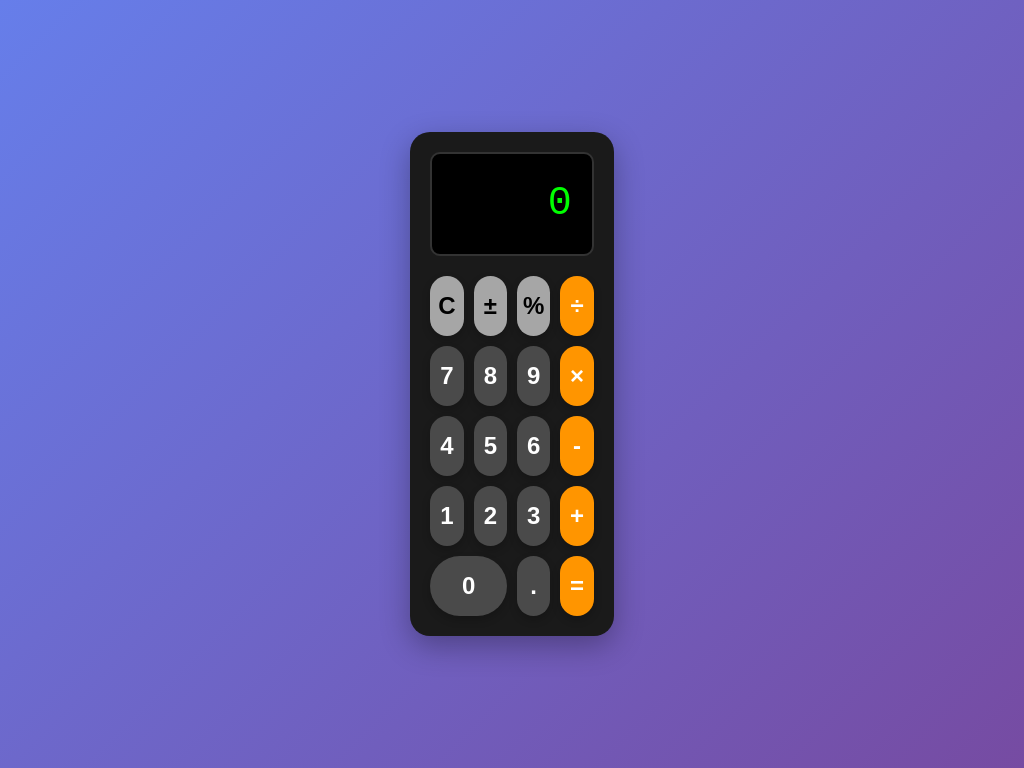
Test: Calculator › clears display when C button is clicked
// Enter some numbers
Step 1. Click the button "1" → point(447, 516), box [430, 486, 464, 546]
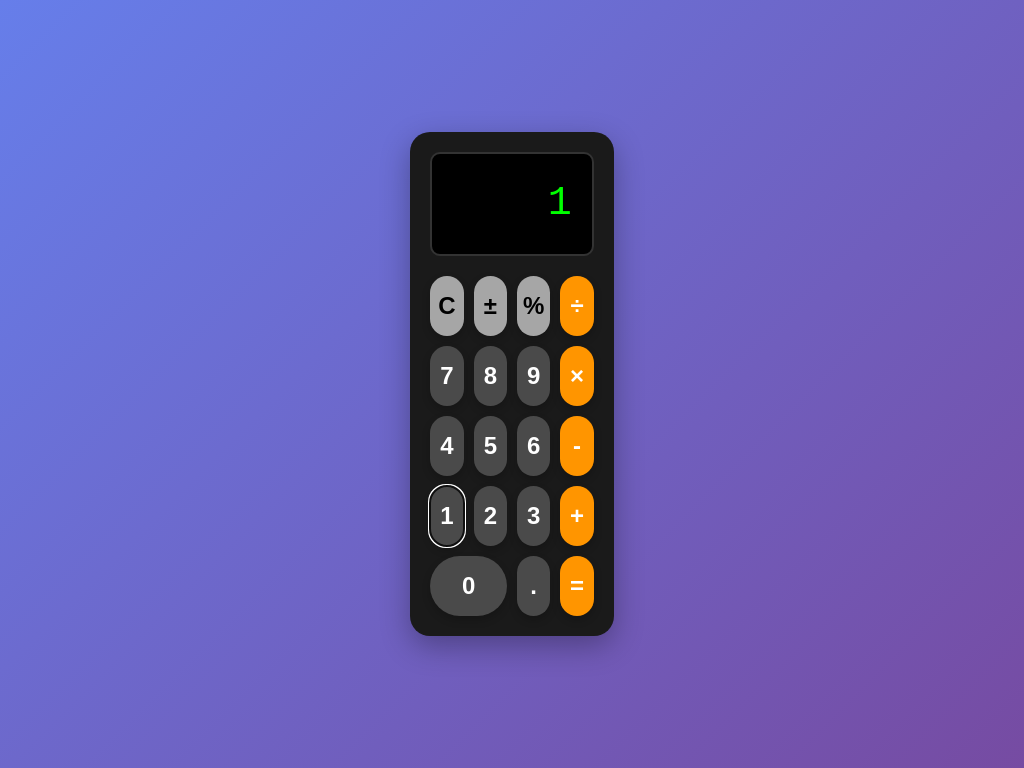
Step 2. Click the button "2" → point(490, 516), box [474, 486, 507, 546]
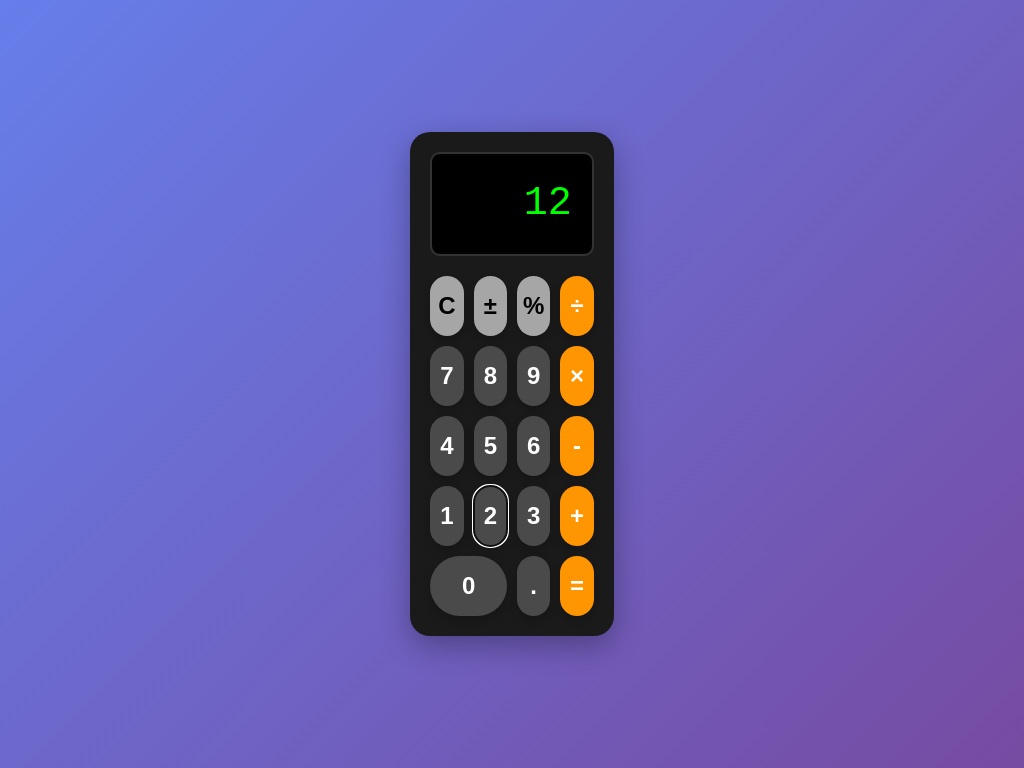
Check: the text with class "display-value" reads "12", box [524, 181, 572, 226]
Step 3. Click the button "C" → point(447, 306), box [430, 276, 464, 336]
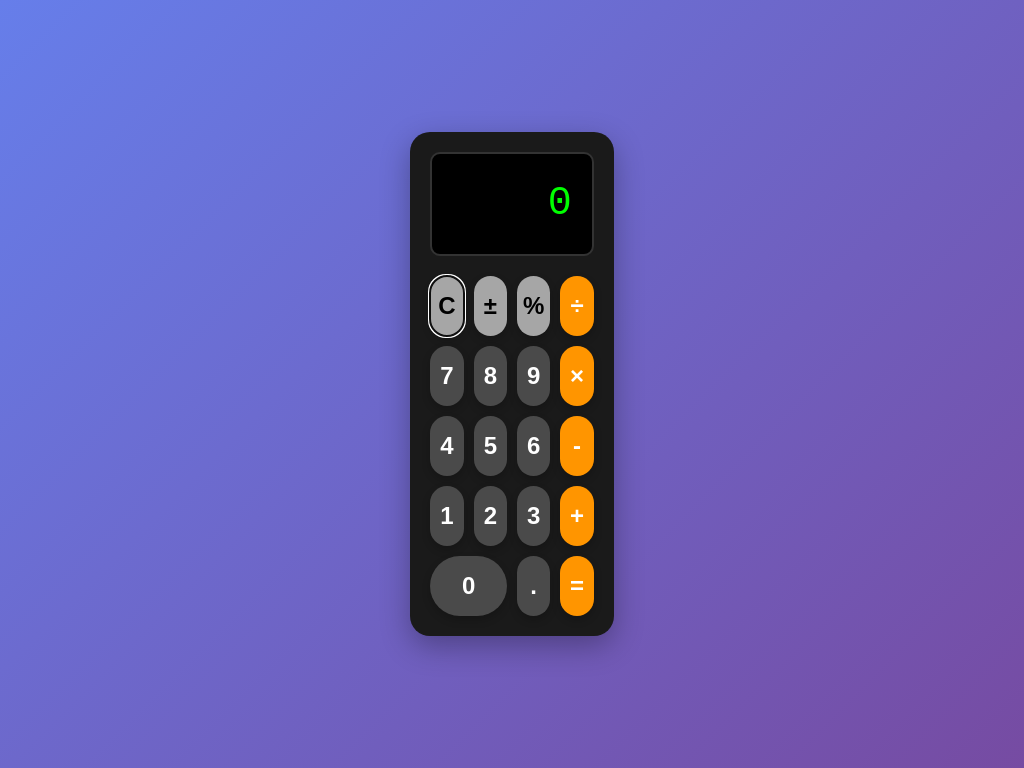
Check: the text with class "display-value" reads "0", box [548, 181, 572, 226]
